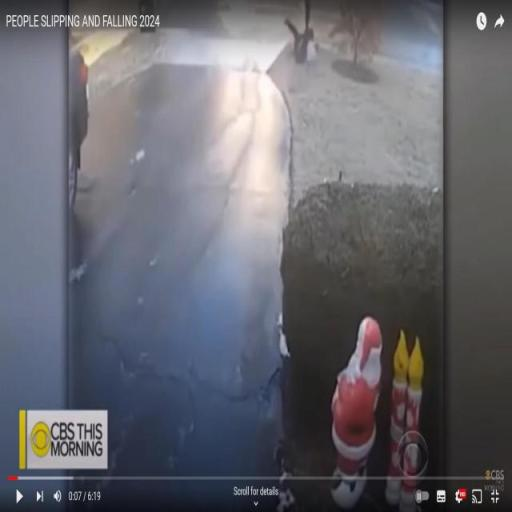Fall: (283, 12, 321, 69)
